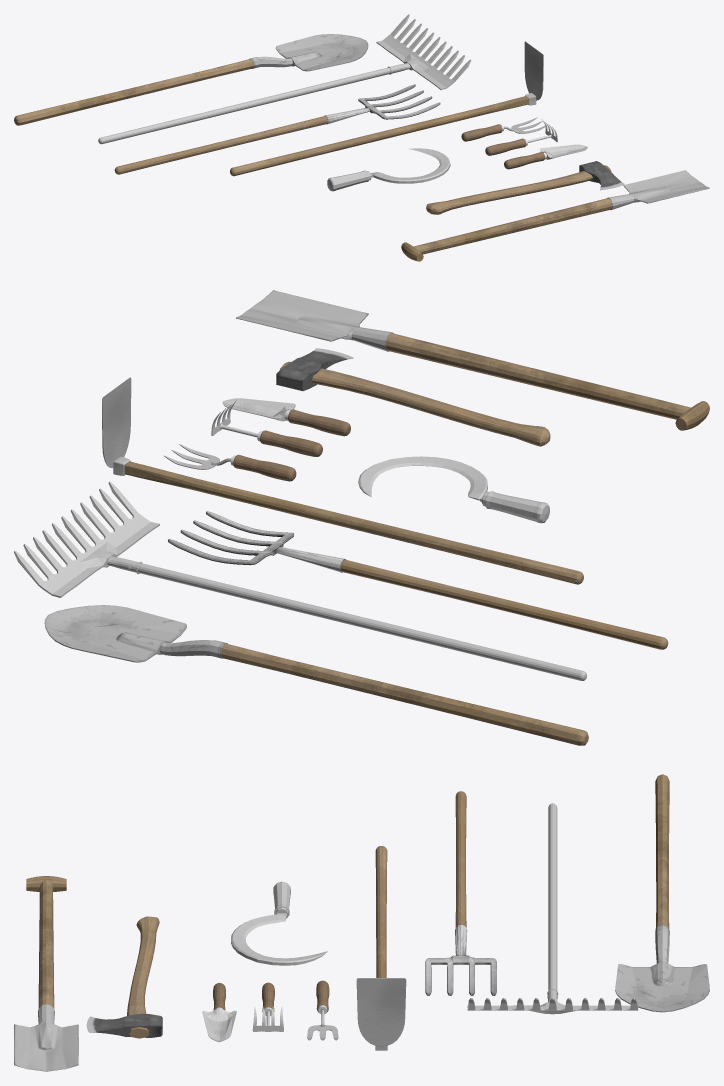
The model's file is Various Garden Tools.fbx.
The picture shows the model from 3 angles, top to bottom: view 1: azimuth 30°, elevation 25°; view 2: azimuth 150°, elevation 25°; view 3: azimuth 270°, elevation 25°; orthographic projection. The views are drawn at different scales.
Parts seen in each view (by area): view 1: Various Garden Tools; view 2: Various Garden Tools; view 3: Various Garden Tools.
Part boxes in pixels (bbox=[...]): Various Garden Tools: bbox=[14, 14, 709, 261]; Various Garden Tools: bbox=[14, 290, 709, 745]; Various Garden Tools: bbox=[14, 774, 709, 1071].
Size of the model in its own units: 2.22 by 0.2939 by 2.24.
